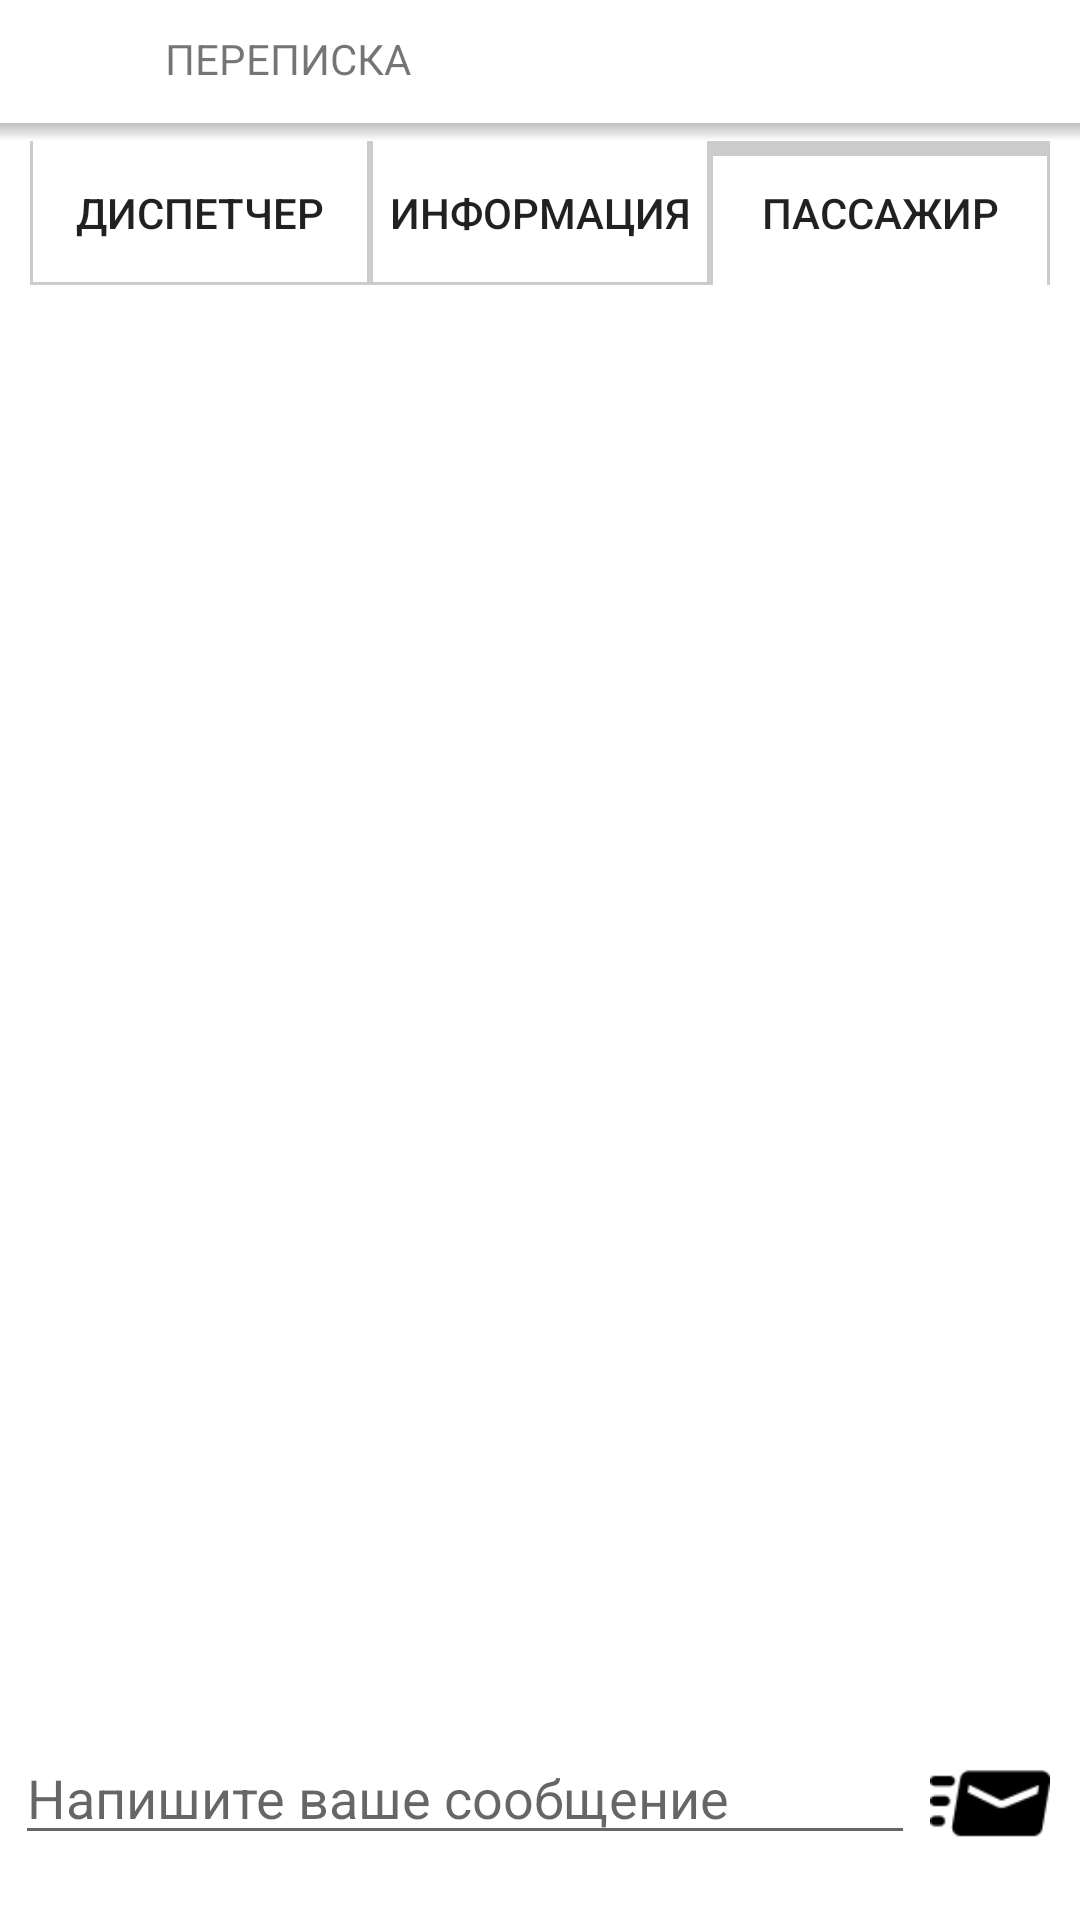

Named icons in this screenshot (1080 x 1920) and their bounding boxes, (x1, y1, x2, y2):
send: (930, 1770, 1050, 1837)
